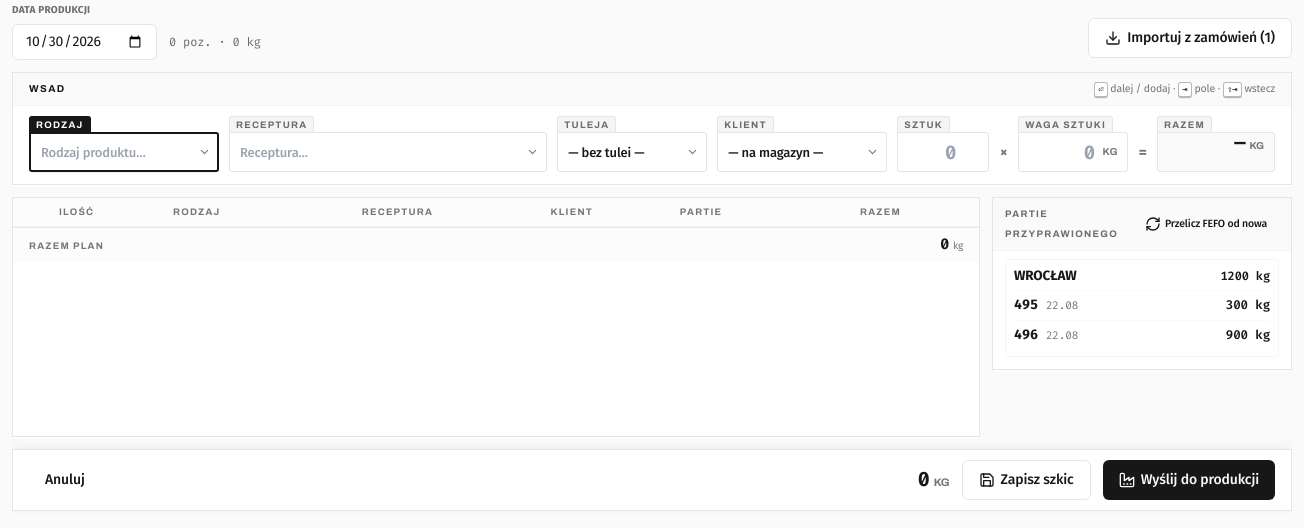
Test: PlanEditor — wciąganie z zamówień › wciągnięta pozycja ląduje w planie z partiami od FEFO
The image size is (1304, 528).
Click the button with test id "otworz-zamowienia": (1190, 38) [1088,18,1292,58]
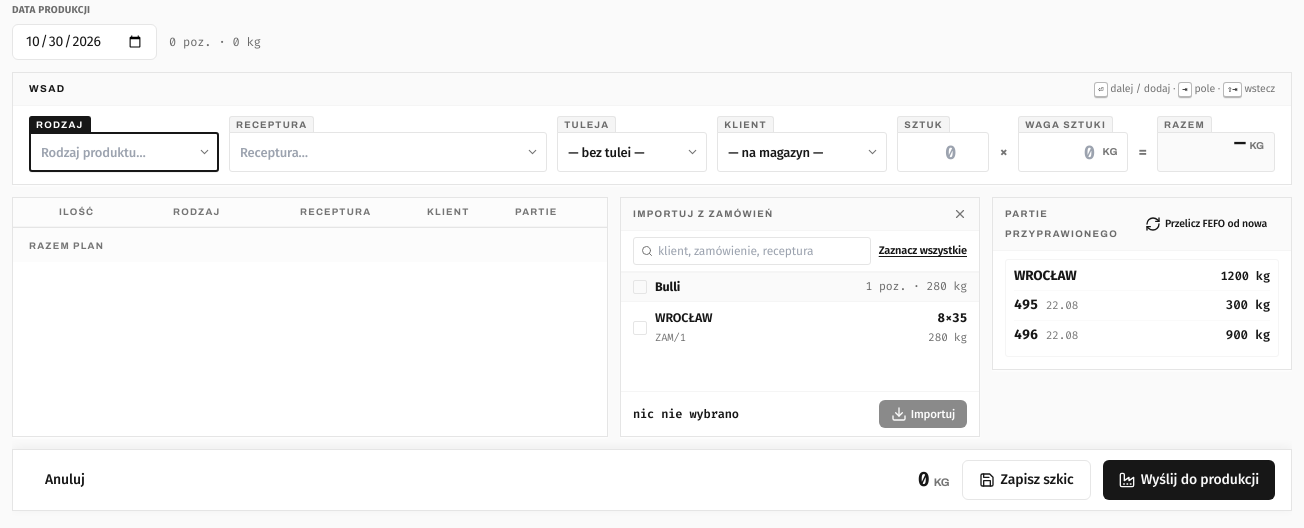
Click the button with test id "pozycja-zl1": (684, 318) [621,302,979,354]
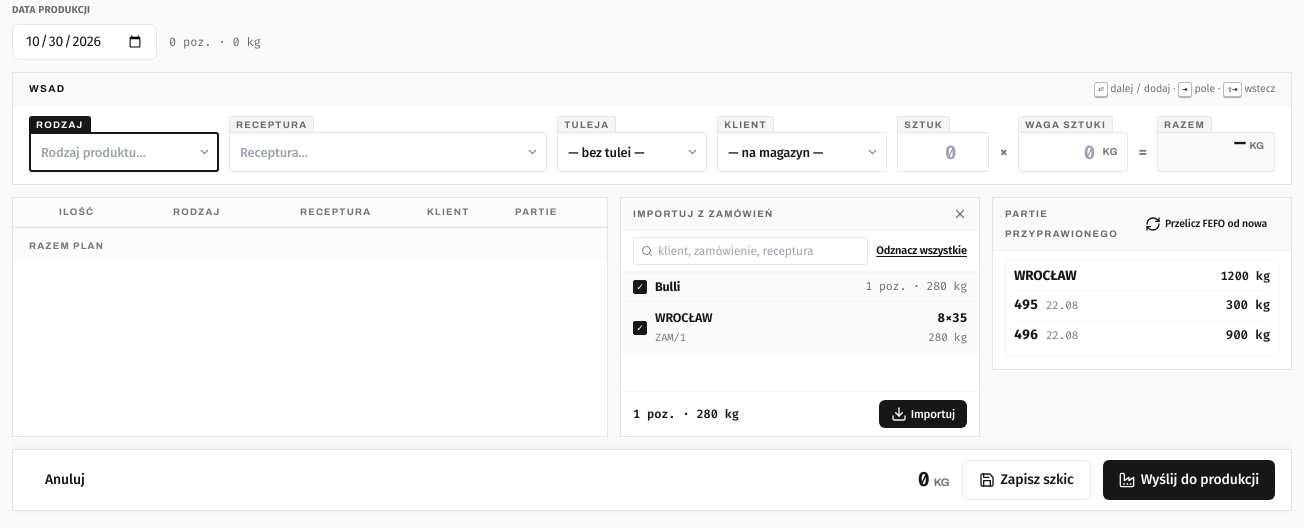
Click the button with test id "importuj": (923, 414) [879,400,967,428]
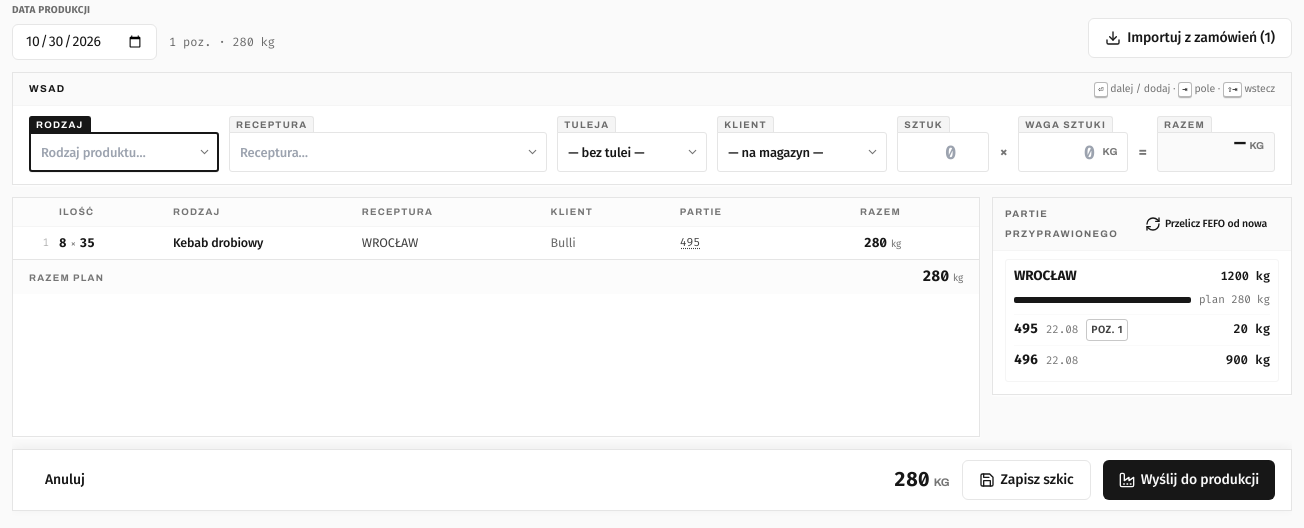
Expected: the number of elements with test id "plan-line" is 1, [13,227,979,259]
